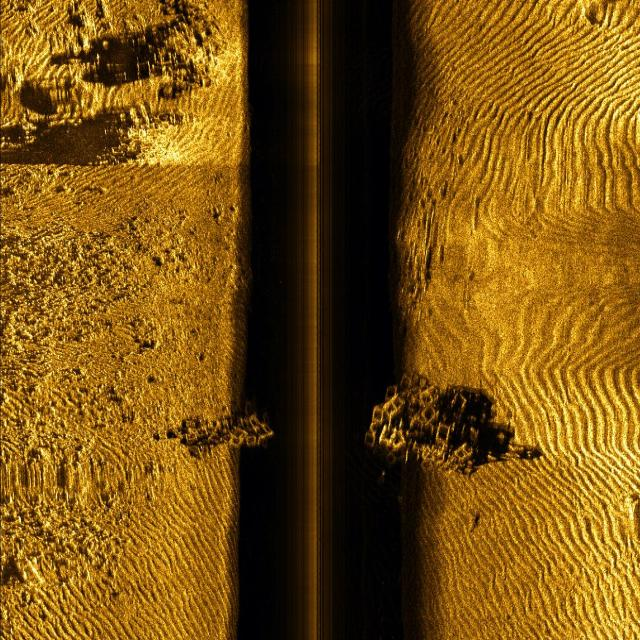artificial reef: (361, 378, 485, 483), (172, 403, 280, 460)
